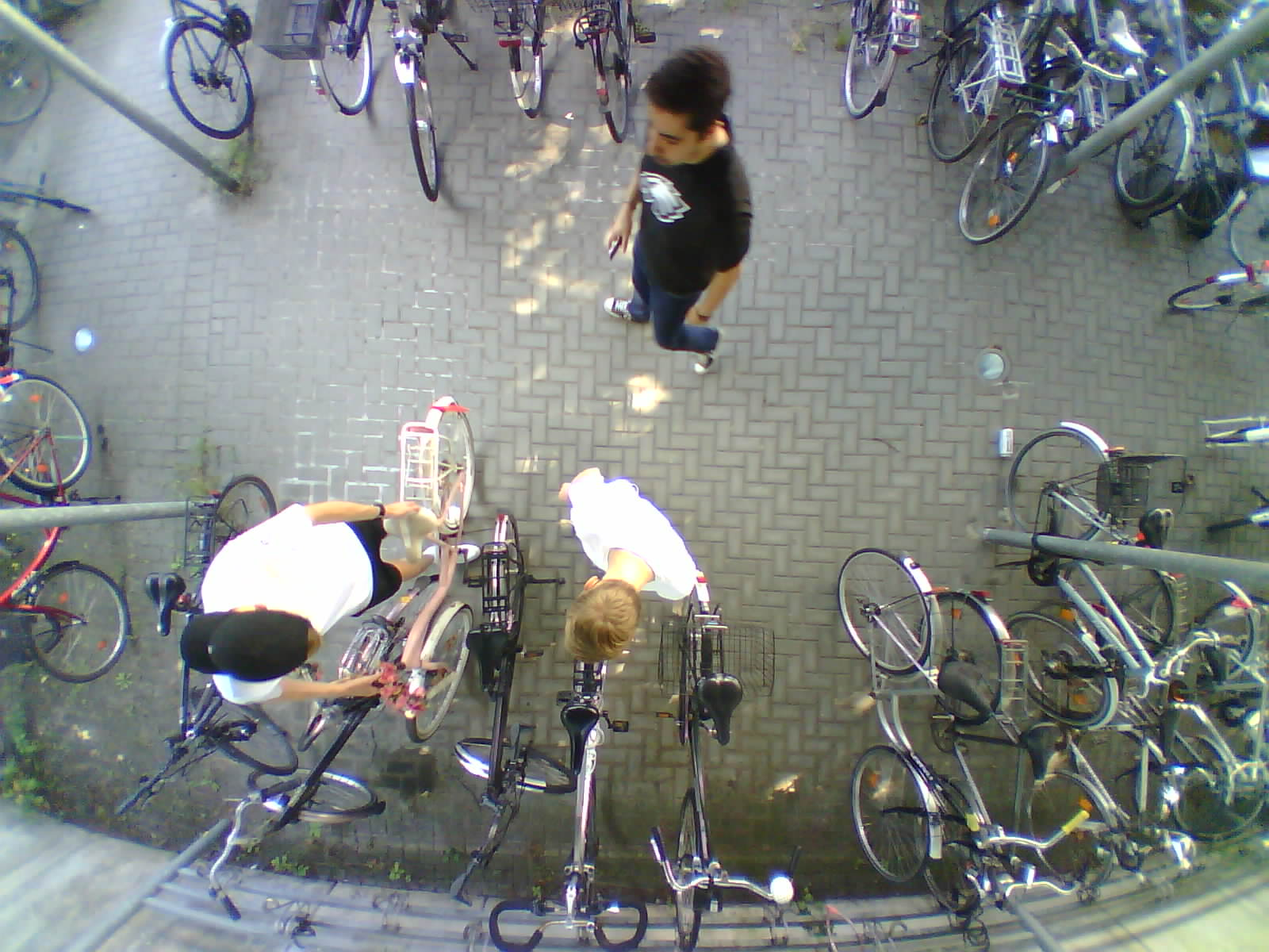bicylce: (999, 409, 1158, 724), (1083, 547, 1256, 832), (834, 543, 961, 875), (145, 474, 274, 781), (266, 583, 413, 847), (1033, 588, 1152, 908), (0, 370, 111, 688), (658, 571, 749, 952), (386, 393, 478, 738), (929, 587, 1015, 914), (959, 0, 1072, 244), (470, 513, 543, 886), (555, 572, 622, 947)
saddle: (698, 670, 746, 748), (935, 658, 993, 719), (1019, 718, 1066, 780), (466, 630, 512, 693), (390, 506, 437, 565), (144, 572, 186, 638), (297, 698, 345, 755), (560, 704, 598, 772), (1106, 11, 1150, 61), (1140, 501, 1179, 556), (1153, 697, 1184, 760), (1204, 638, 1228, 685), (1246, 79, 1269, 119)
